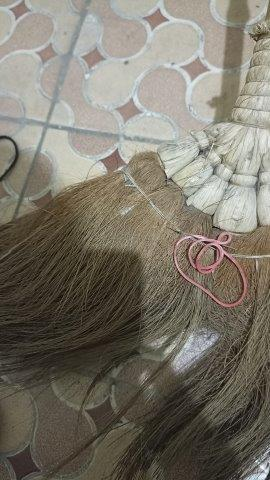karet: (173, 232, 247, 307)
